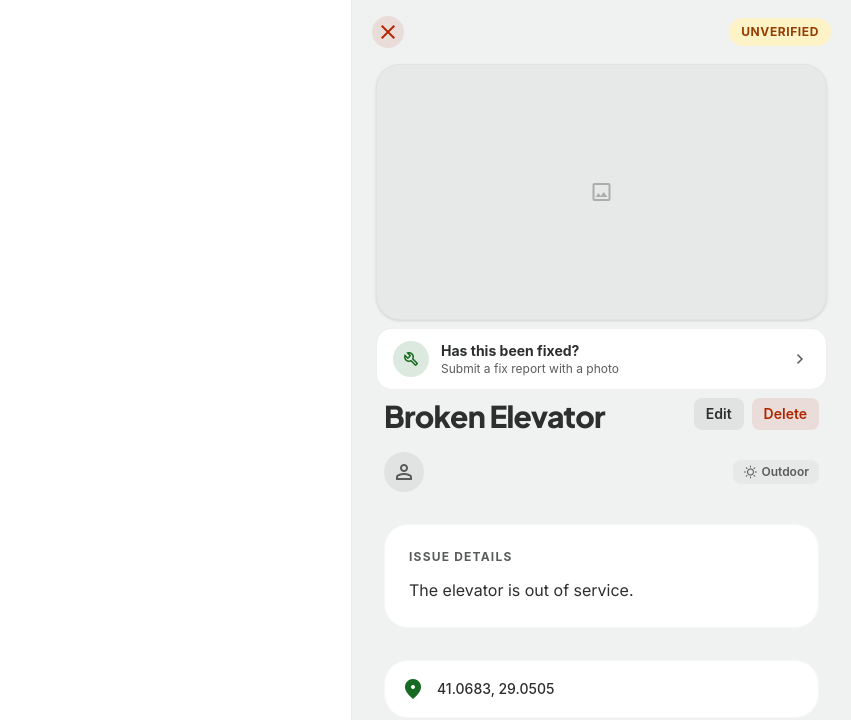
Scenario: ReportPanel › owner / admin delete › shows a permission toast on 403 and does not close the panel
What coordinates should you click on to do the following:
click the button "Delete"
I would click on:
 (785, 414)
Its box is [752,398,819,430].
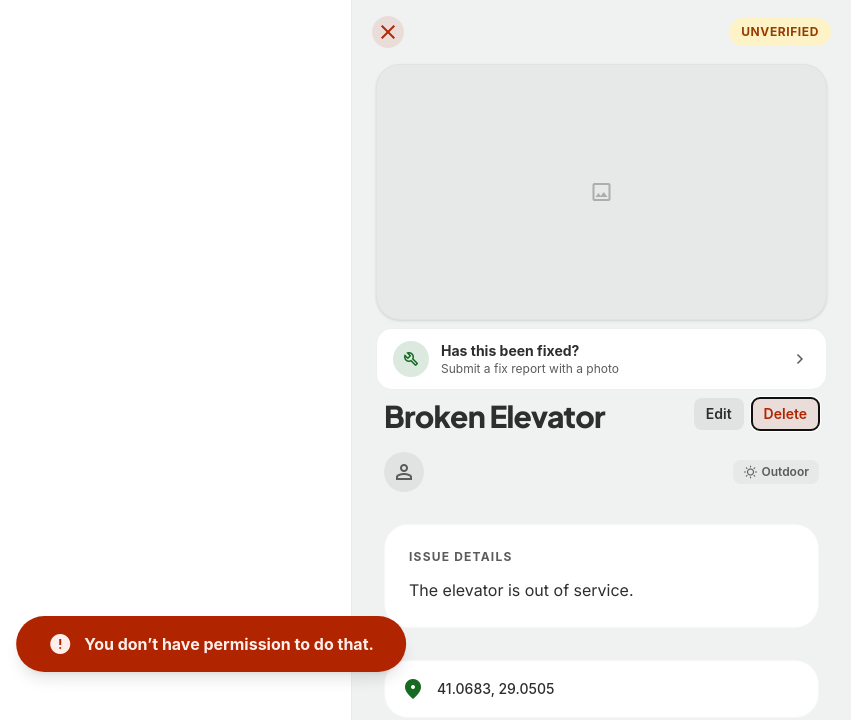
Now the text "You don’t have permission to do that." is shown, box [84,632,374,656]
